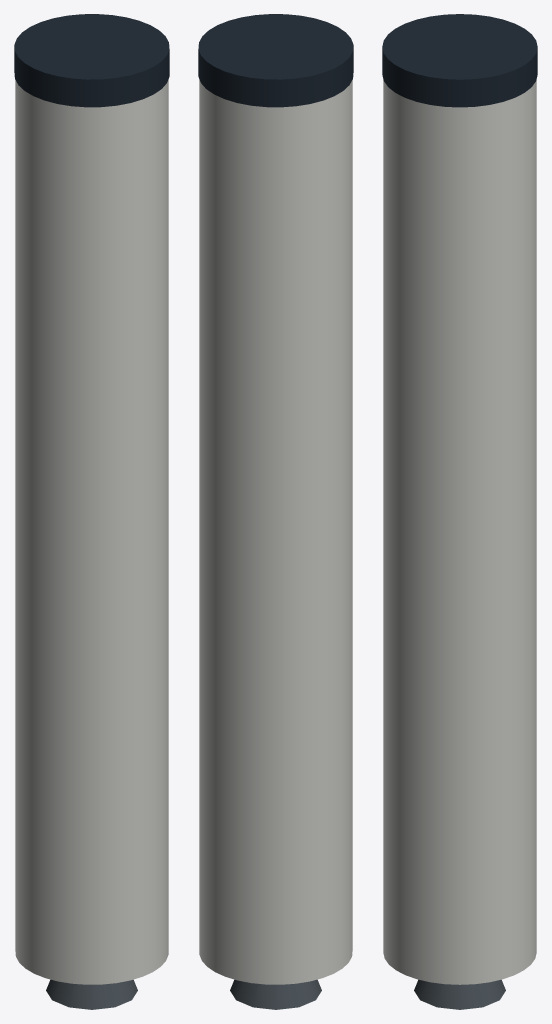
File: iskander-stage-1.glb
3 views of the same model, side by side, from view 1: azimuth 30°, elevation 25°; view 2: azimuth 150°, elevation 25°; view 3: azimuth 270°, elevation 25° (orthographic).
Visible parts, largest first — view 1: body-0, interstage-0, engine-0-0; view 2: body-0, interstage-0, engine-0-0; view 3: body-0, interstage-0, engine-0-0.
Part boxes in pixels (bbox=[...]): body-0: bbox=[15, 79, 168, 984]; interstage-0: bbox=[14, 14, 169, 107]; engine-0-0: bbox=[46, 979, 137, 1009]; body-0: bbox=[199, 79, 352, 984]; interstage-0: bbox=[198, 14, 353, 107]; engine-0-0: bbox=[230, 979, 321, 1009]; body-0: bbox=[383, 80, 536, 984]; interstage-0: bbox=[382, 14, 537, 107]; engine-0-0: bbox=[414, 979, 505, 1009].
Size of the model in its own units: 0.931 by 6.24 by 0.931.
